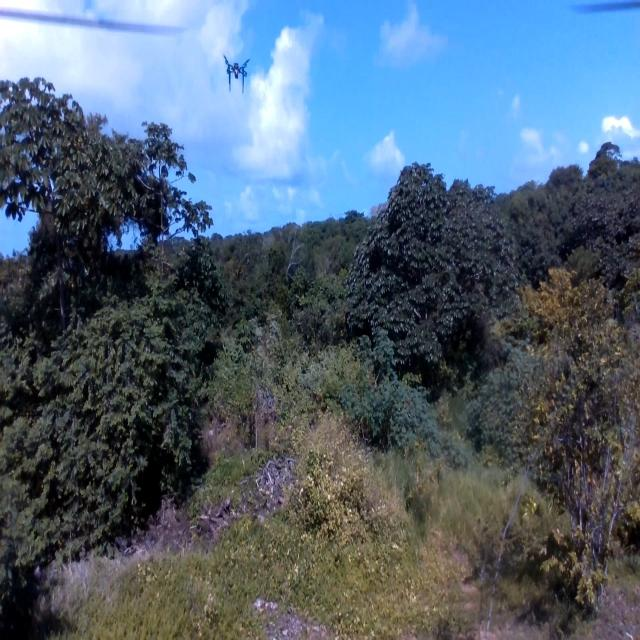-uav-: (217, 45, 256, 96)
